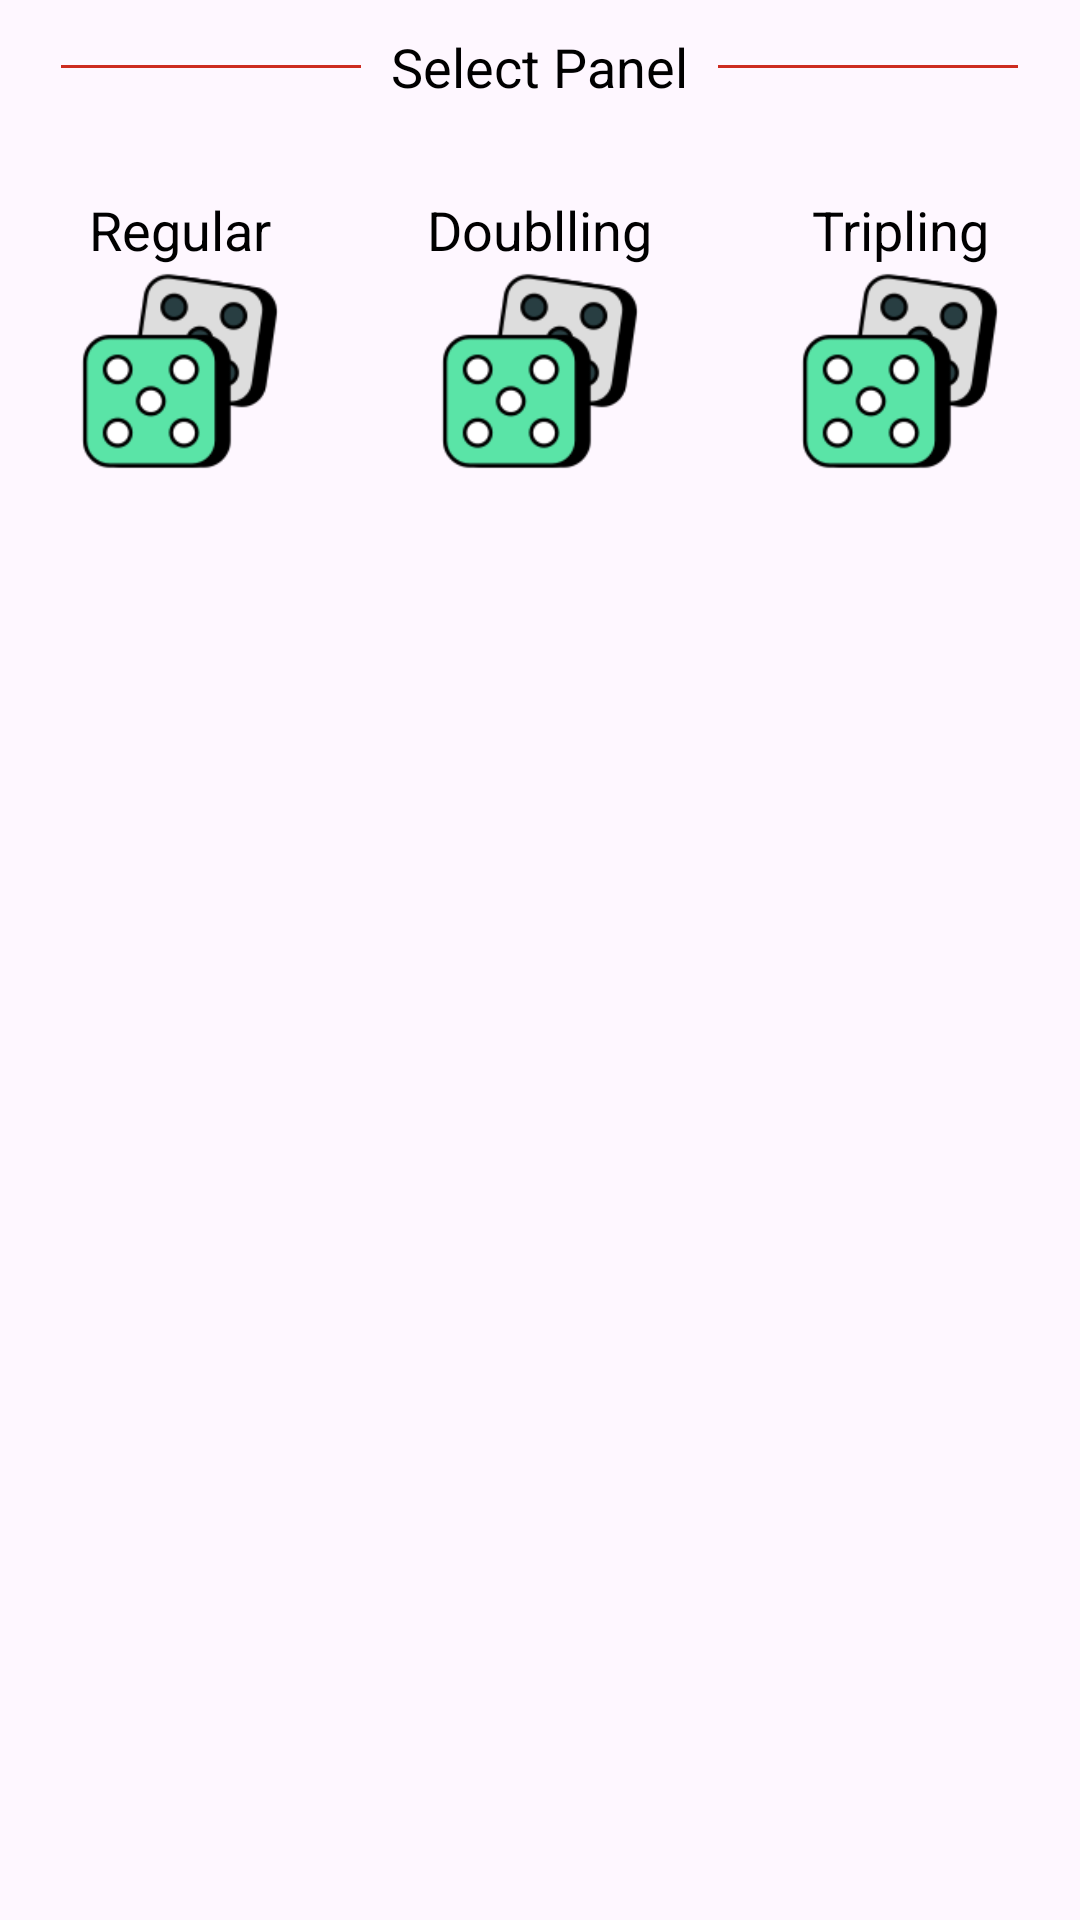

Icon click points for this 1080px x 1920px phone screenshot, format point (x, y):
ludo: point (180, 371), point (540, 371), point (900, 371)
